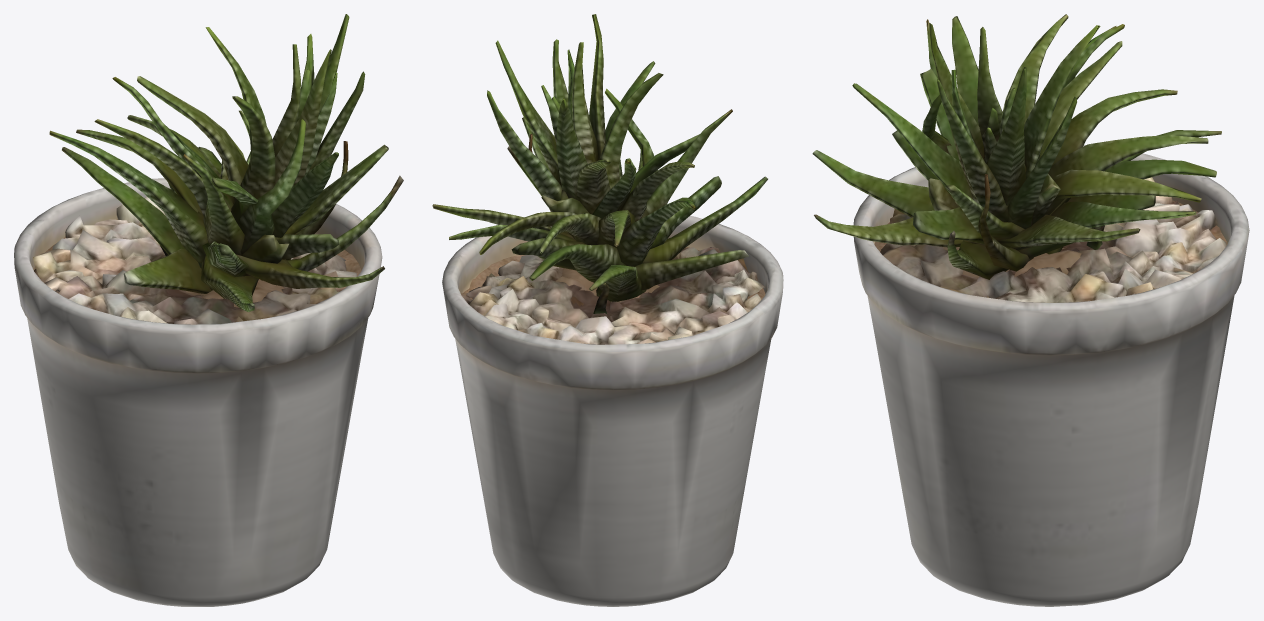
Rendered from potted_plant_04.glb.
3 views of the same model, side by side, from view 1: azimuth 30°, elevation 25°; view 2: azimuth 150°, elevation 25°; view 3: azimuth 270°, elevation 25° (orthographic). The views are drawn at different scales.
Parts seen in each view (by area): view 1: potted_plant_04_ground; view 2: potted_plant_04_ground; view 3: potted_plant_04_ground.
Part boxes in pixels (<box>): potted_plant_04_ground: <box>14,14,403,606</box>; potted_plant_04_ground: <box>432,14,783,606</box>; potted_plant_04_ground: <box>812,14,1249,606</box>.
Size of the model in its own units: 0.1674 by 0.2671 by 0.1847.
Materials: 1 (1 with a texture image).
